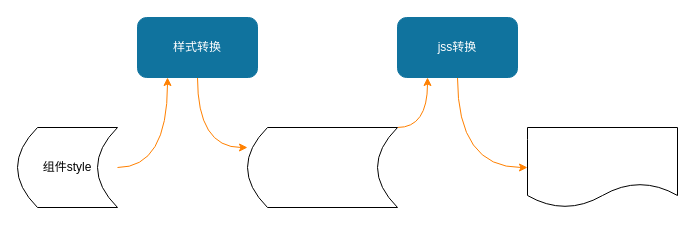
This 695x225 diagram has some shape labels left out. Each missing label, with the centre of its shape:
"HTML DOM Style Object" goes at point (322, 167).
"style Document Sheet" goes at point (602, 167).
